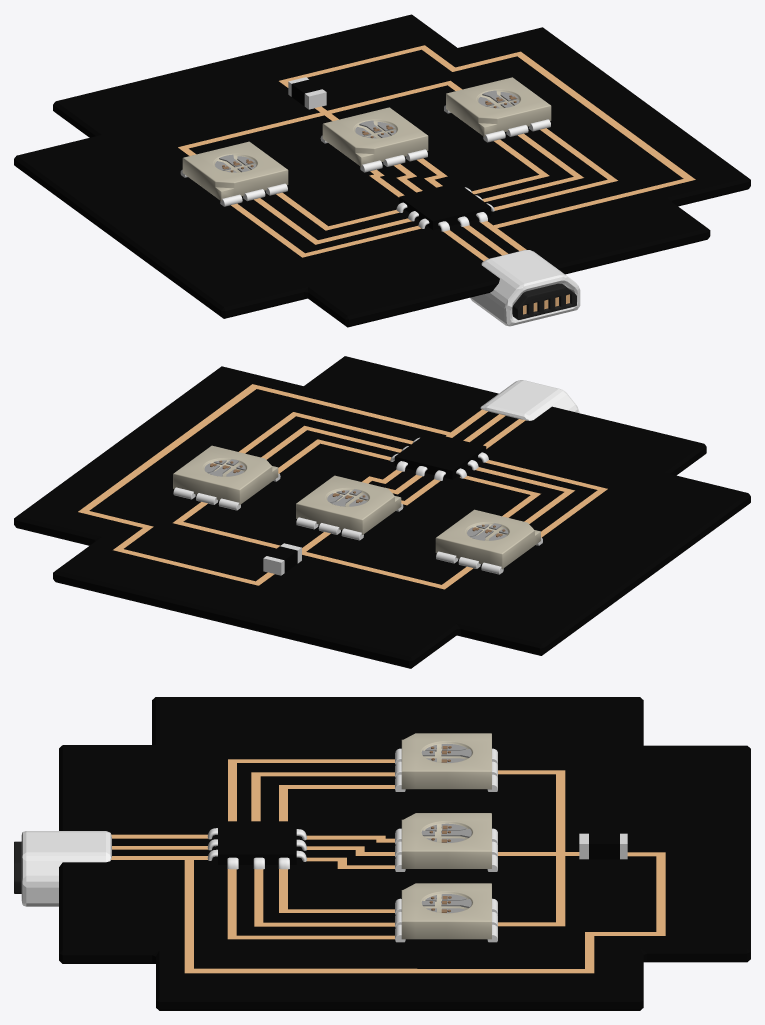
Rendered from RGB LEDs ytho.glb.
3 views of the same model, one above another, from view 1: azimuth 30°, elevation 25°; view 2: azimuth 150°, elevation 25°; view 3: azimuth 270°, elevation 25° (orthographic). The views are drawn at different scales.
Parts seen in each view (by area): view 1: RGB LEDs; view 2: RGB LEDs; view 3: RGB LEDs.
Boxes of the visible parts, x1,y1,x2,y2 form: RGB LEDs: [14, 14, 750, 327]; RGB LEDs: [14, 356, 750, 668]; RGB LEDs: [14, 697, 750, 1010].
Size of the model in its own units: 0.0385 by 0.00379 by 0.0395.
